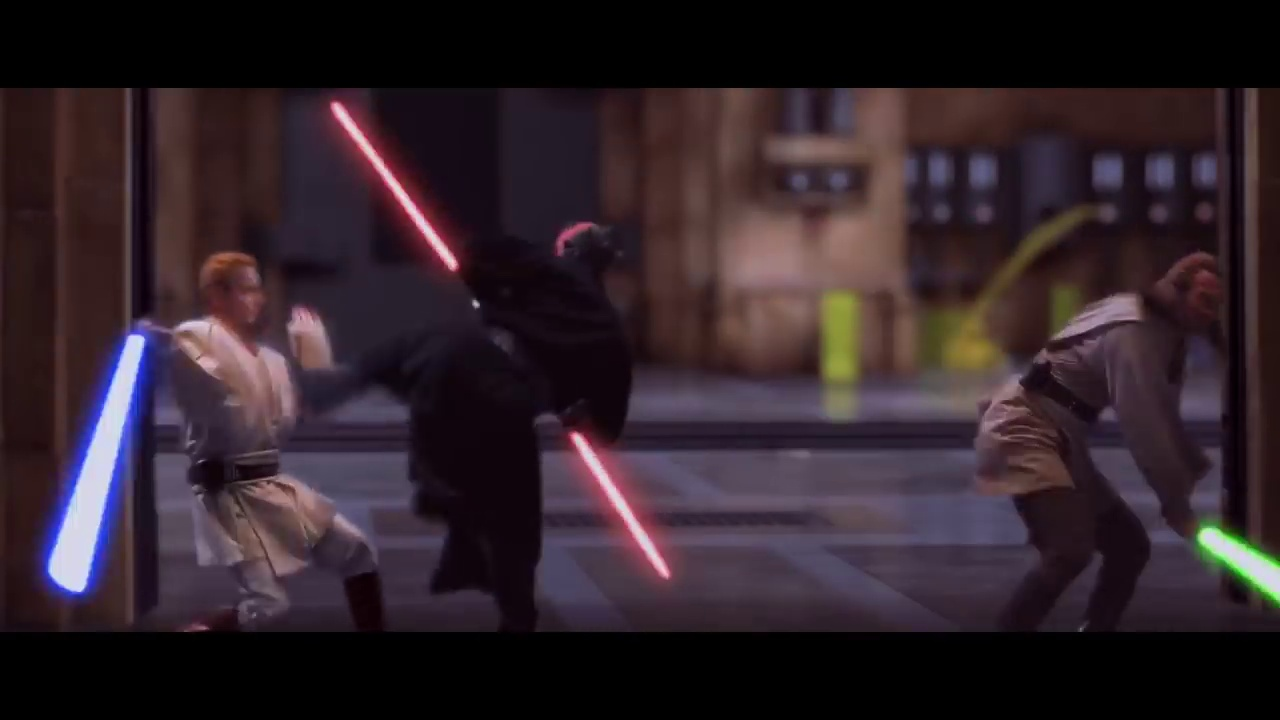lightsaber: (326, 97, 491, 311), (41, 311, 152, 606), (562, 406, 677, 586), (1171, 512, 1280, 611)
